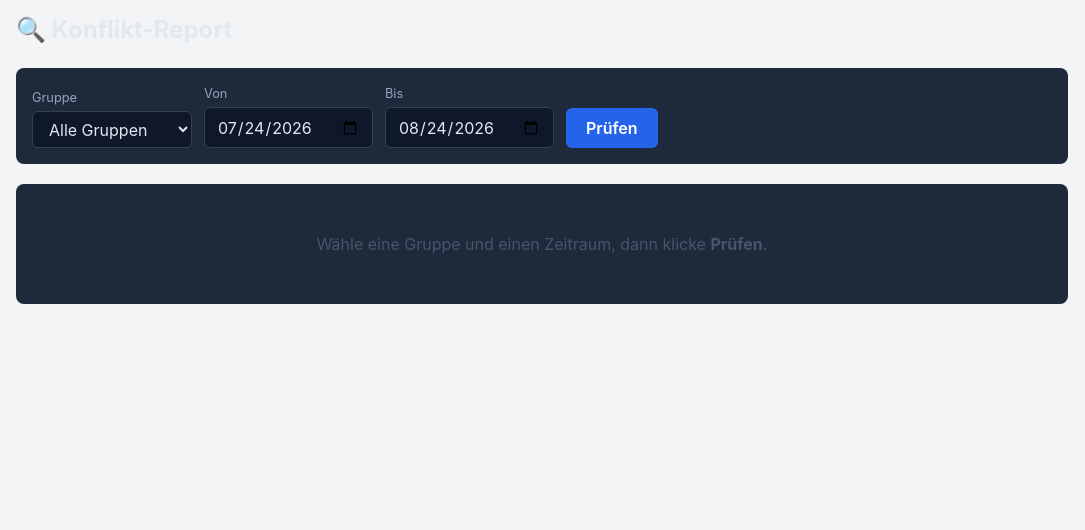
Test: ConflictReport › filters understaffed conflicts correctly
Click the button with test id "pruefen-btn". click: (612, 128)
box: x1=566 y1=108 x2=658 y2=148
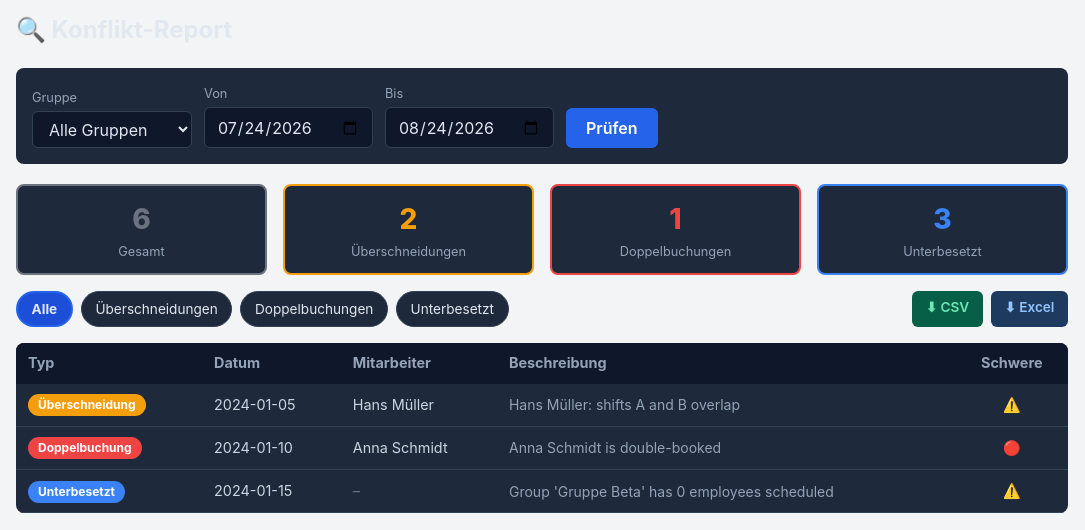
Click the button with test id "filter-btn-understaffed". click: (452, 309)
box: x1=396 y1=291 x2=509 y2=327
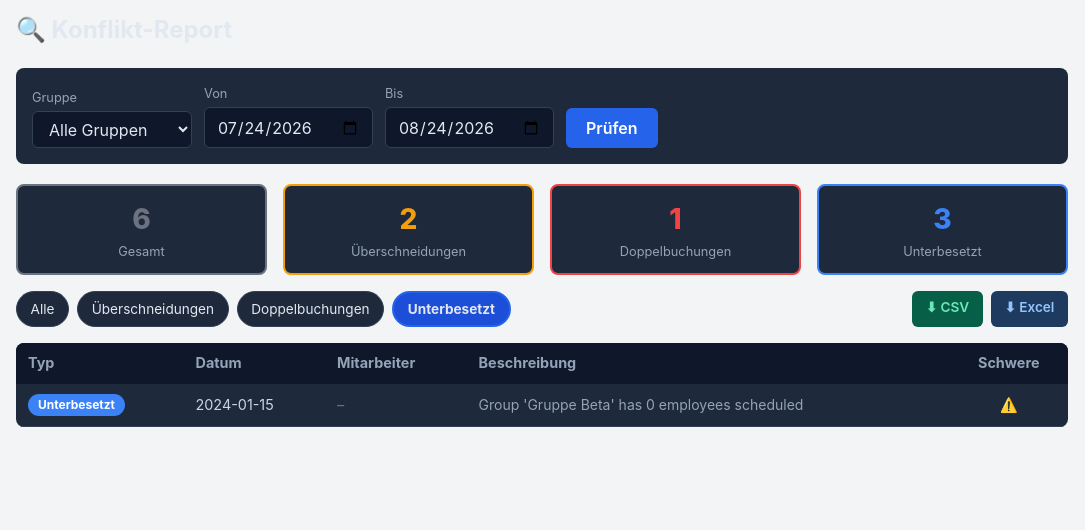
Result: the number of rows with test id "conflict-row" is 1 at x1=16 y1=384 x2=1068 y2=426
